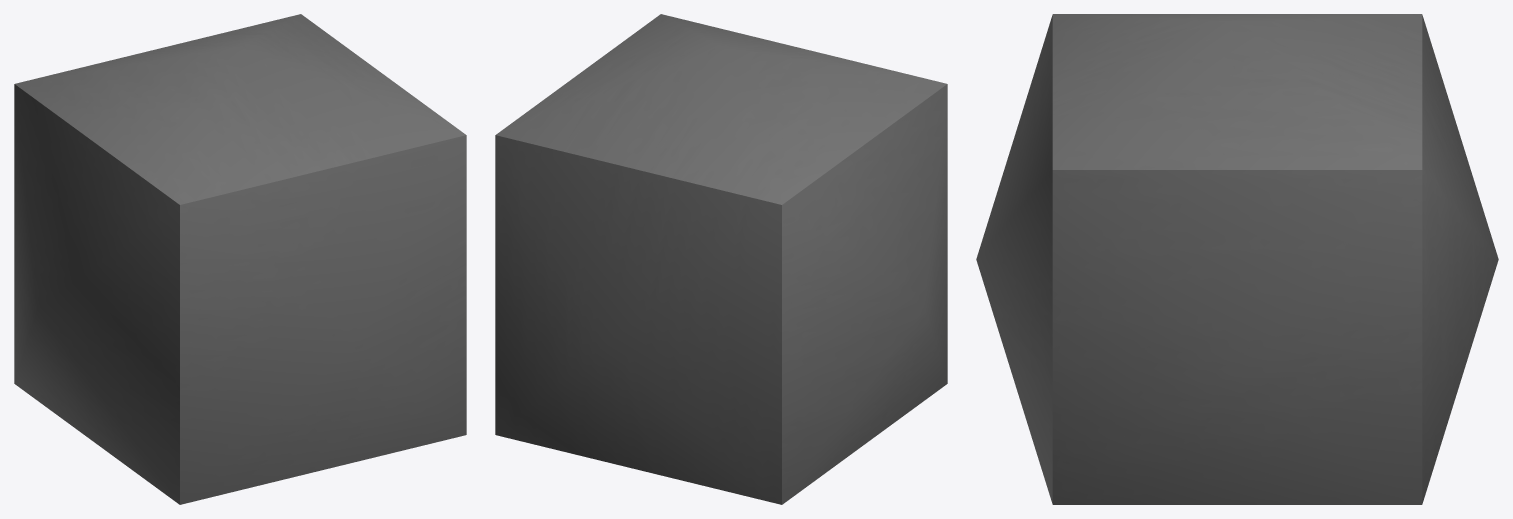
Rendered from cable_core.obj.
The picture shows the model from 3 angles, left to right: view 1: azimuth 30°, elevation 25°; view 2: azimuth 150°, elevation 25°; view 3: azimuth 270°, elevation 25°; orthographic projection. The views are drawn at different scales.
Parts seen in each view (by area): view 1: core_0; view 2: core_0; view 3: core_0.
Boxes of the visible parts, box(x1,y1,x2,y2) form: core_0: box(14, 14, 466, 504); core_0: box(495, 14, 947, 504); core_0: box(976, 14, 1498, 504).
Bounding box in the file's own units: 0.5 × 0.5 × 0.5.
